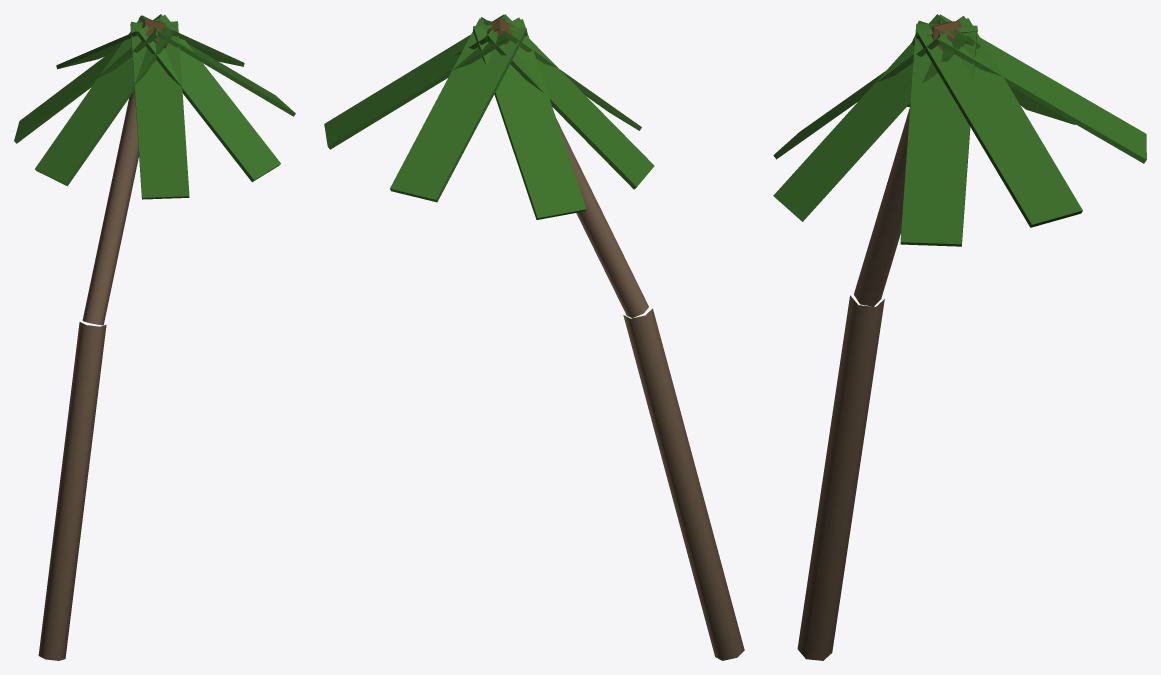
The model's file is palmeira.glb.
3 renders of one model, left to right at view 1: azimuth 30°, elevation 25°; view 2: azimuth 150°, elevation 25°; view 3: azimuth 270°, elevation 25°, orthographic. The views are drawn at different scales.
Visible parts, largest first — view 1: palmeira_liso; view 2: palmeira_liso; view 3: palmeira_liso.
Part boxes in pixels (x1,y1,x2,y2): palmeira_liso: (14, 14, 295, 660); palmeira_liso: (324, 14, 744, 660); palmeira_liso: (773, 14, 1146, 660).
Size of the model in its own units: 4.94 by 9.17 by 4.27.
